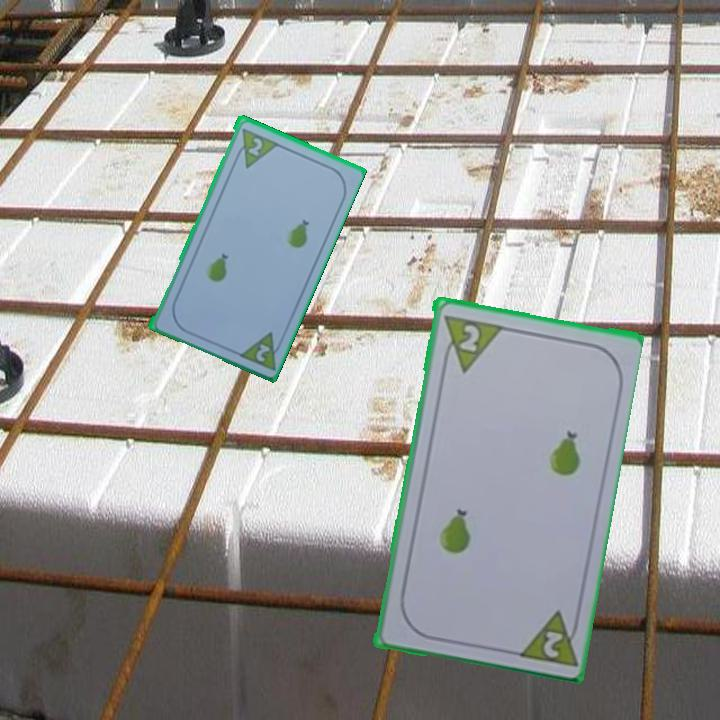2p: (512, 605, 583, 669), (234, 328, 287, 373), (455, 320, 483, 354), (244, 133, 266, 158)
